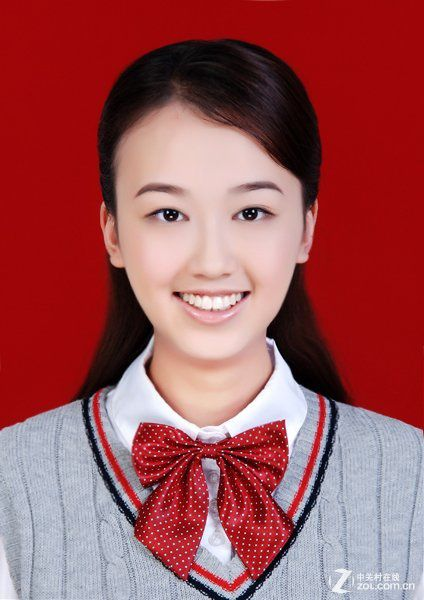unmask: (113, 133, 299, 354)
